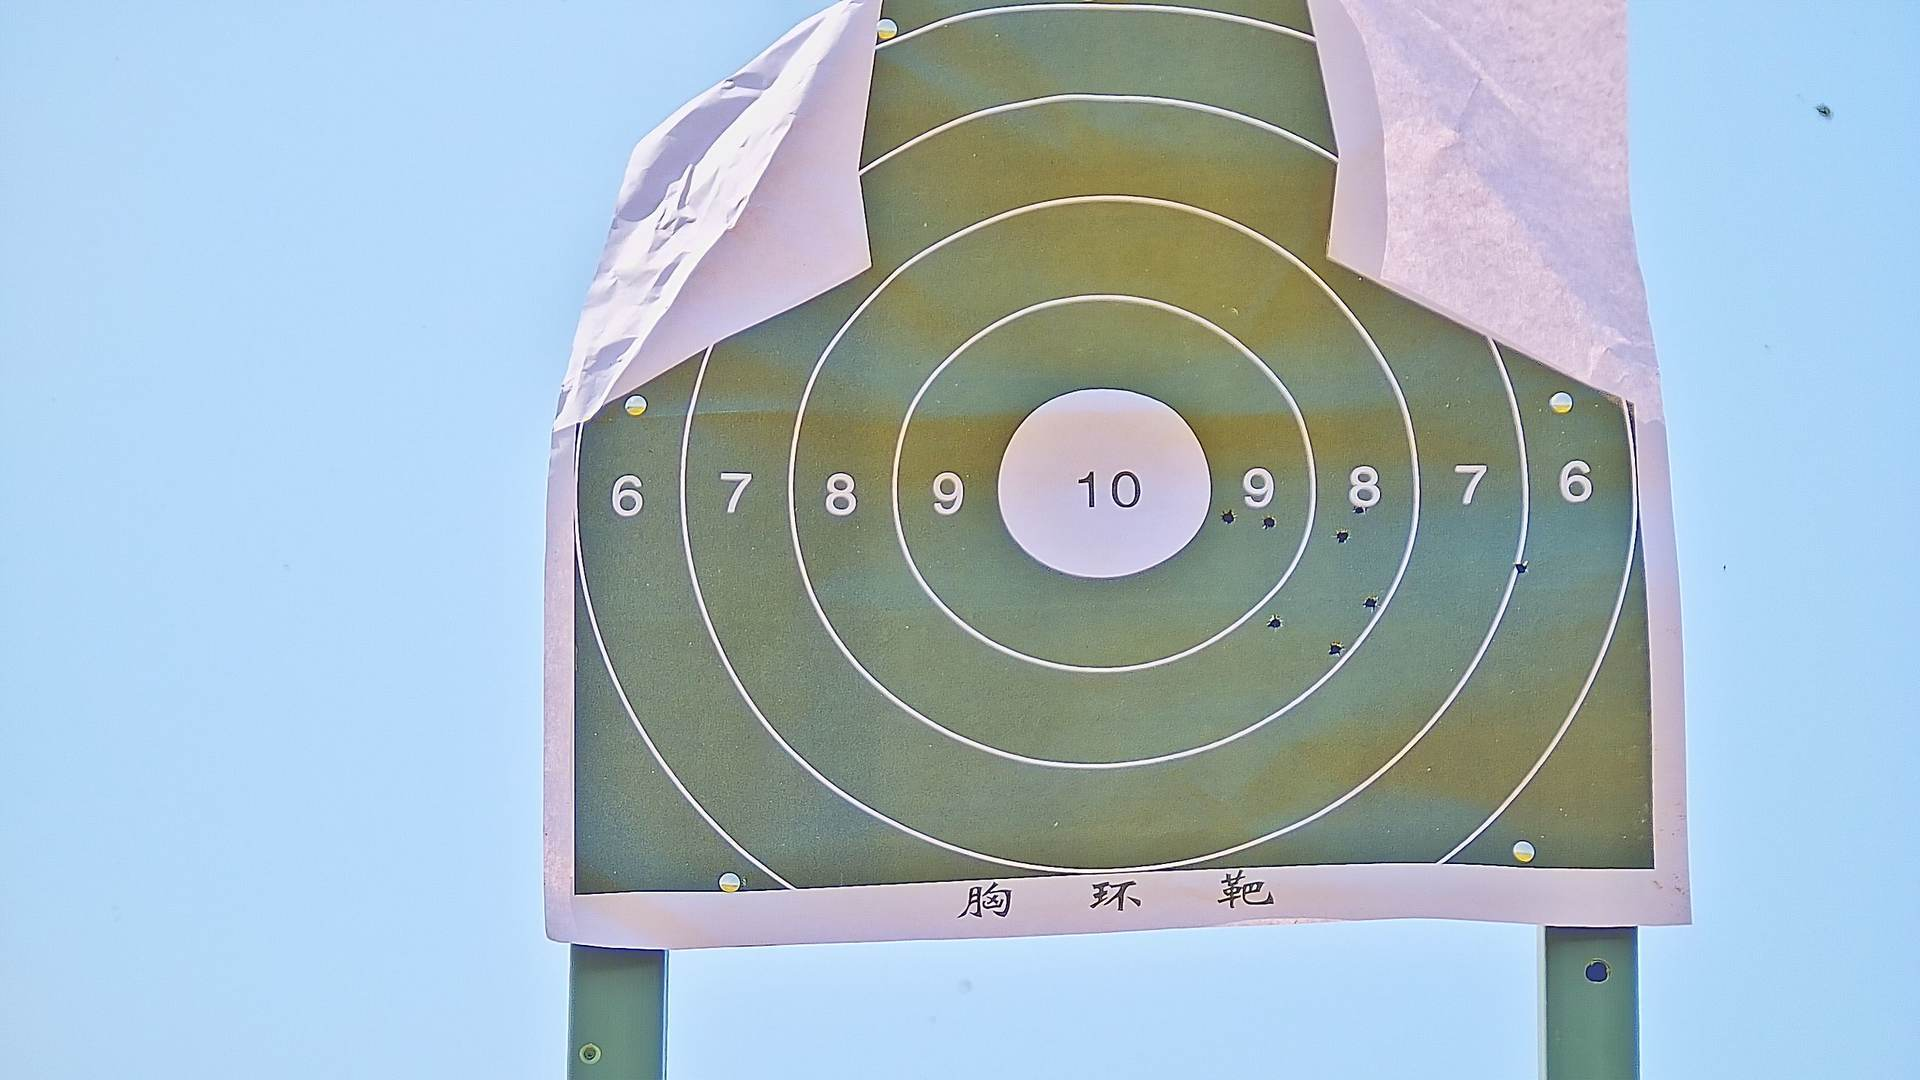hole: (1335, 527, 1349, 545), (1352, 502, 1367, 516), (1267, 615, 1283, 628), (1364, 593, 1377, 609), (1513, 560, 1528, 574), (1263, 514, 1275, 527), (1331, 642, 1342, 655), (1222, 508, 1233, 522)
kernel: (1100, 492, 1102, 495)
target: (571, 3, 1652, 891)
ten: (996, 380, 1211, 584)
